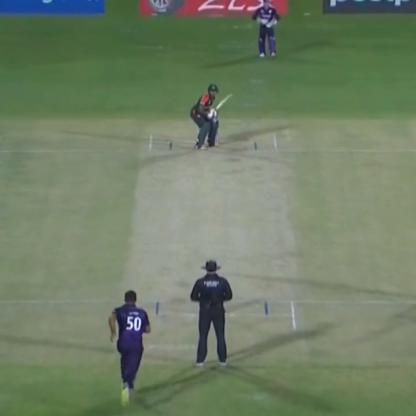bat: (198, 94, 239, 115)
pitch: (126, 135, 307, 343)
